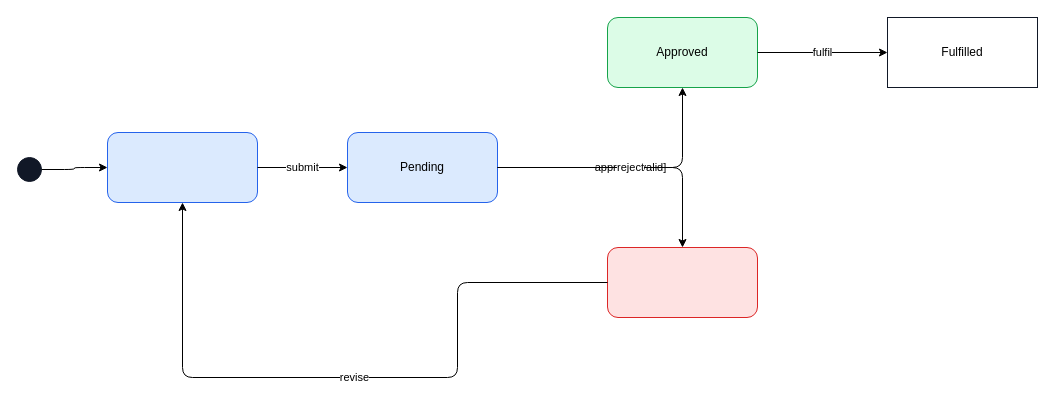
This 1055x403 diagram has some shape labels left out. The centre of each missing label's shape, as x and y in pixels:
"Draft" belongs at (182,167).
"Rejected" belongs at (682,282).
